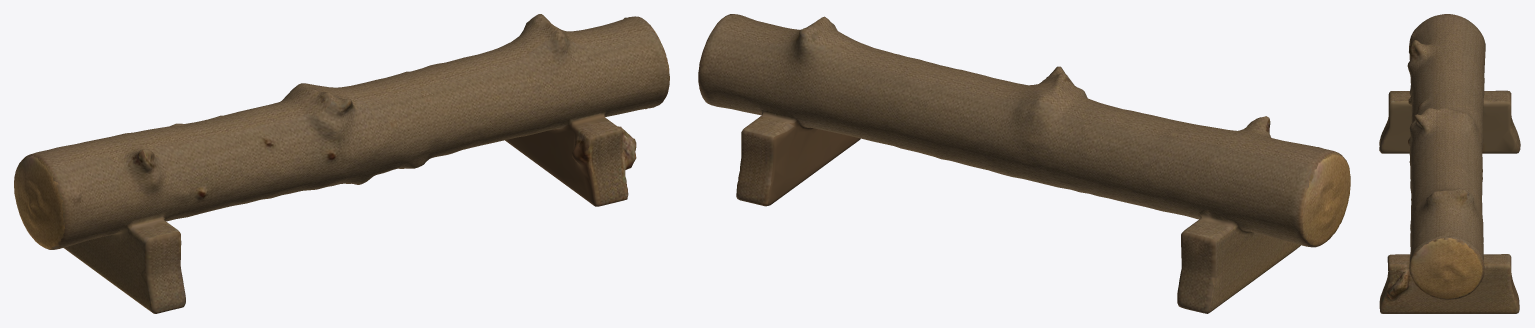
Rendered from tronco.glb.
The picture shows the model from 3 angles, left to right: view 1: azimuth 30°, elevation 25°; view 2: azimuth 150°, elevation 25°; view 3: azimuth 270°, elevation 25°; orthographic projection. The views are drawn at different scales.
Visible parts, largest first — view 1: temp_mesh.ply; view 2: temp_mesh.ply; view 3: temp_mesh.ply.
Boxes of the visible parts, x1,y1,x2,y2 form: temp_mesh.ply: [14, 14, 669, 313]; temp_mesh.ply: [698, 14, 1350, 313]; temp_mesh.ply: [1379, 14, 1520, 313].
Bounding box in the file's own units: 1.9 × 0.4521 × 0.5093.
Materials: 1 (1 with a texture image).
